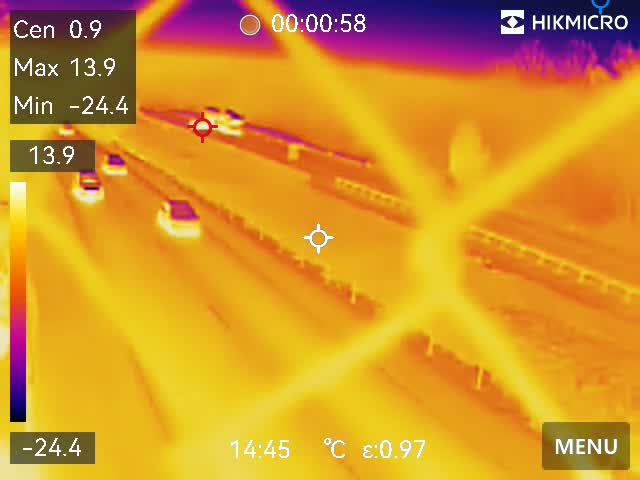heavyTruck: (198, 104, 248, 132)
vehicle: (152, 195, 204, 238), (74, 164, 105, 205), (102, 149, 126, 178)
